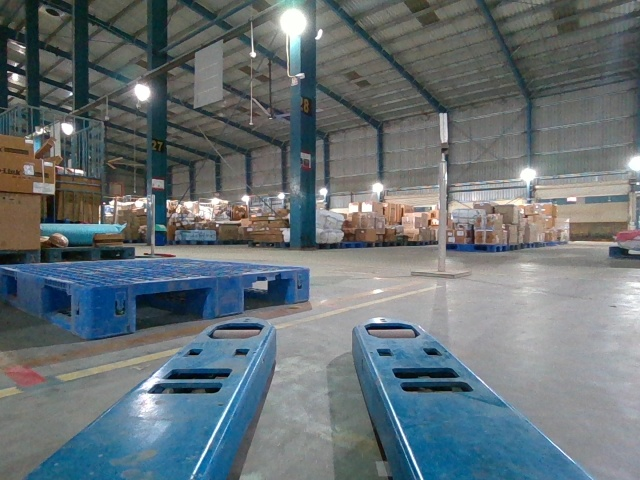block: (87, 283, 136, 339), (215, 271, 246, 321), (289, 265, 309, 304)
front: (90, 267, 309, 340)
hole pallet: (131, 280, 216, 331), (241, 273, 295, 309)
